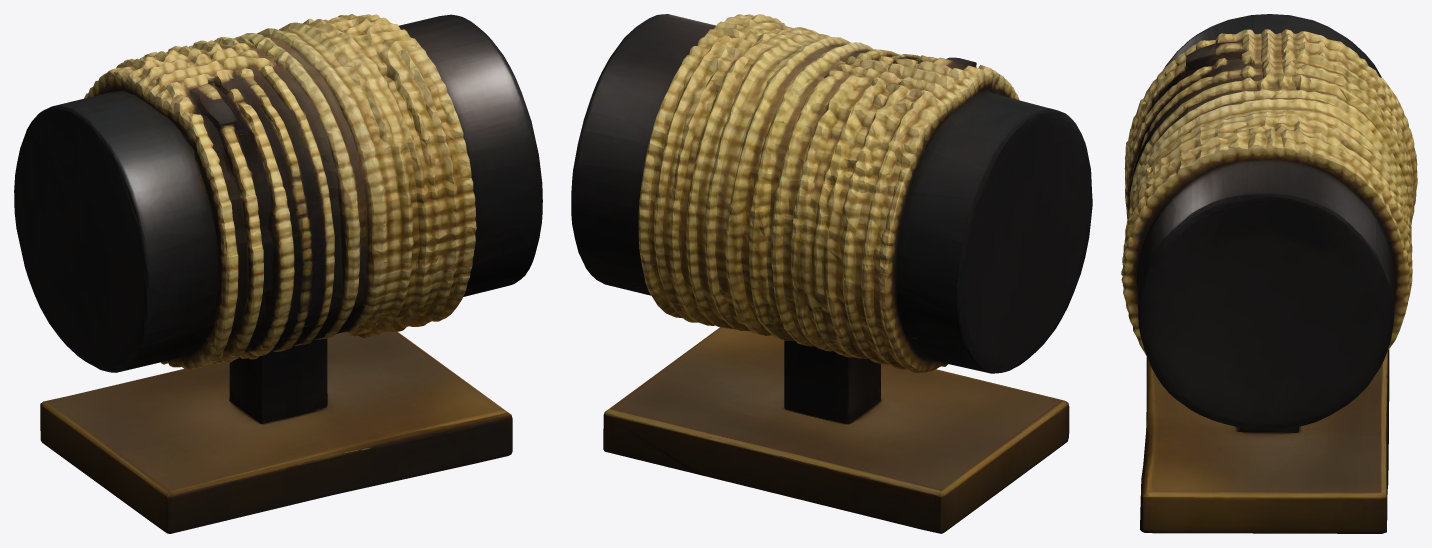
File: rope_spool_2.glb
The picture shows the model from 3 angles, left to right: view 1: azimuth 30°, elevation 25°; view 2: azimuth 150°, elevation 25°; view 3: azimuth 270°, elevation 25°; orthographic projection. The views are drawn at different scales.
Visible parts, largest first — view 1: geometry_0; view 2: geometry_0; view 3: geometry_0.
Part boxes in pixels (box(x1,y1,x2,y2)): geometry_0: box(14, 14, 542, 533); geometry_0: box(571, 14, 1092, 533); geometry_0: box(1121, 14, 1417, 533).
Size of the model in its own units: 0.9964 by 0.9689 by 0.6917.
Materials: 1 (1 with a texture image).
